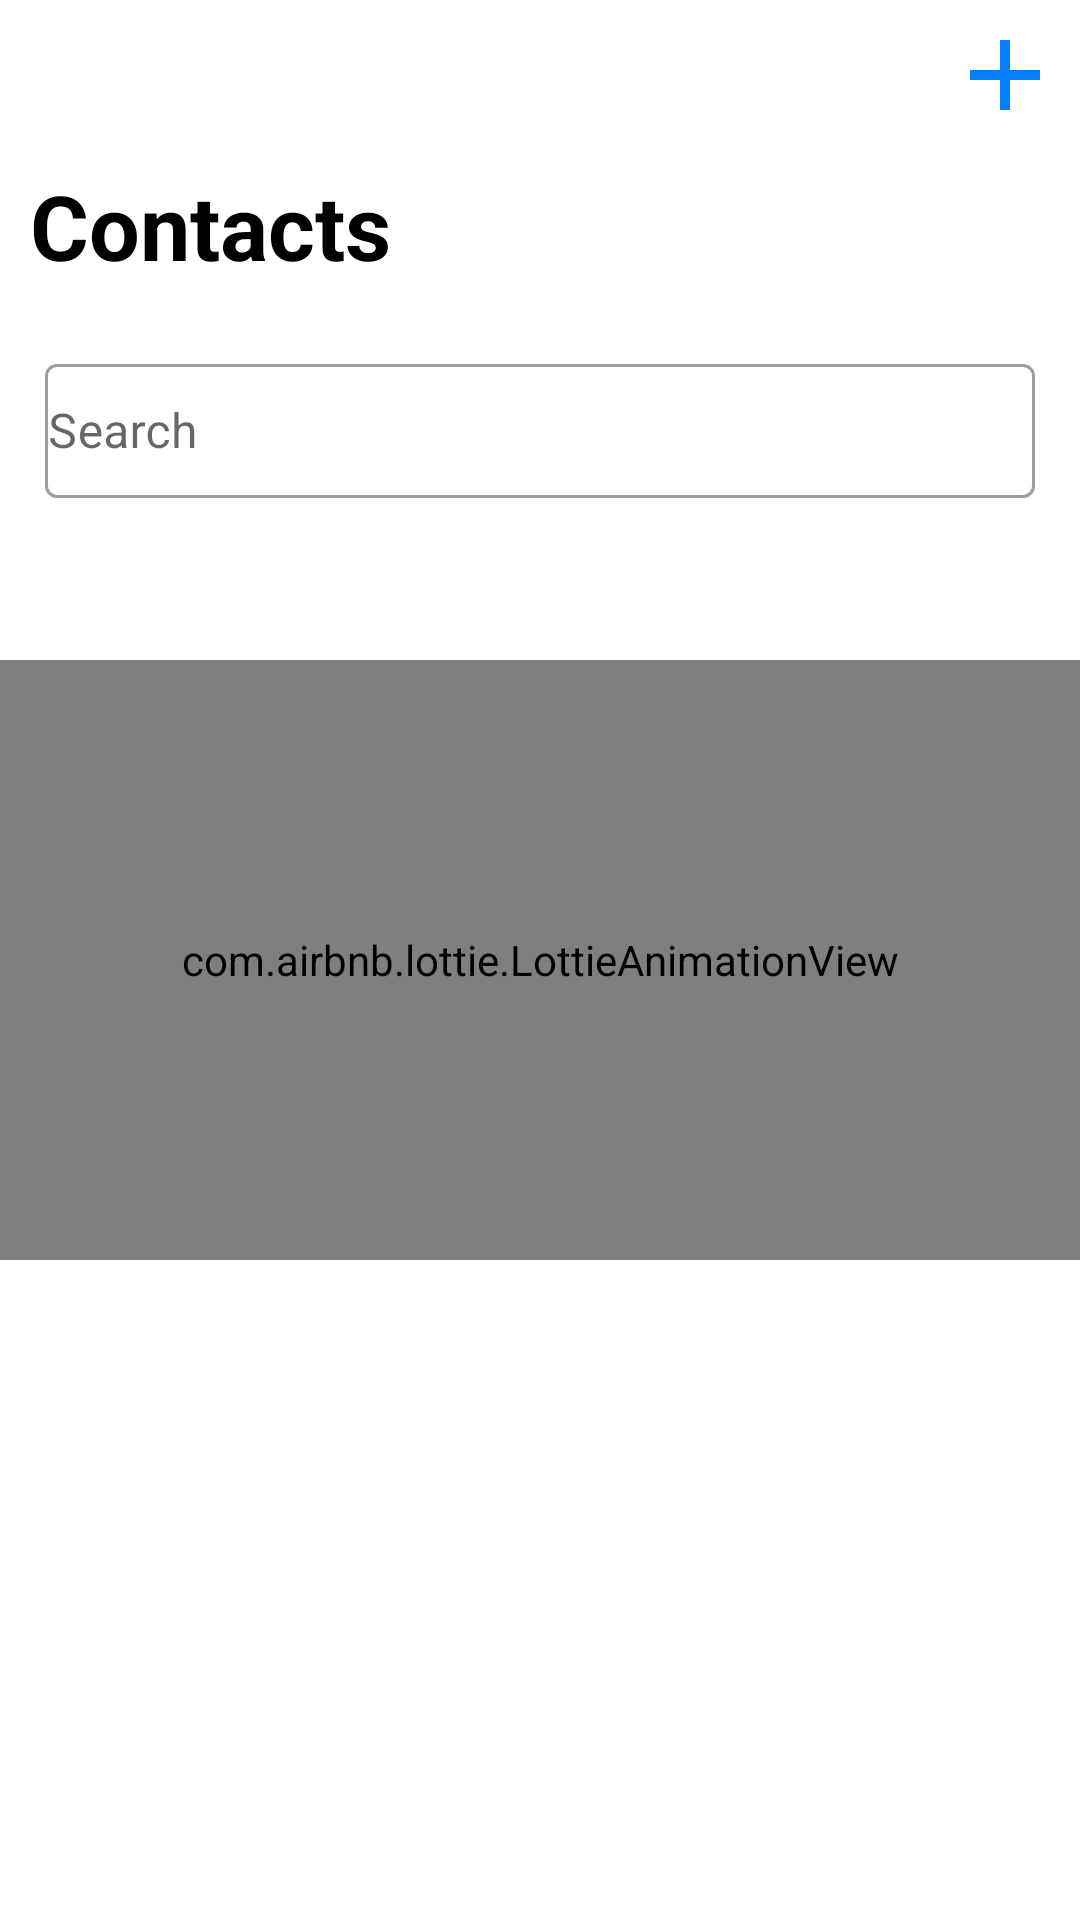

Point at icon controls on the screen. Image size 1080×1920, points as point (x, y).
add: point (1005, 75)
